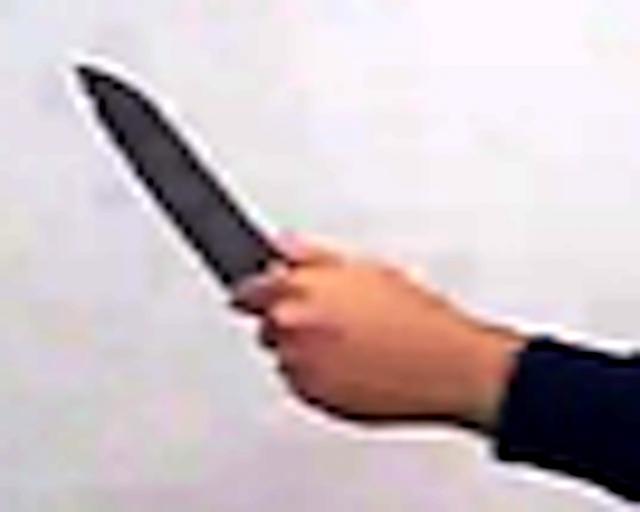long knife: (59, 32, 314, 354)
